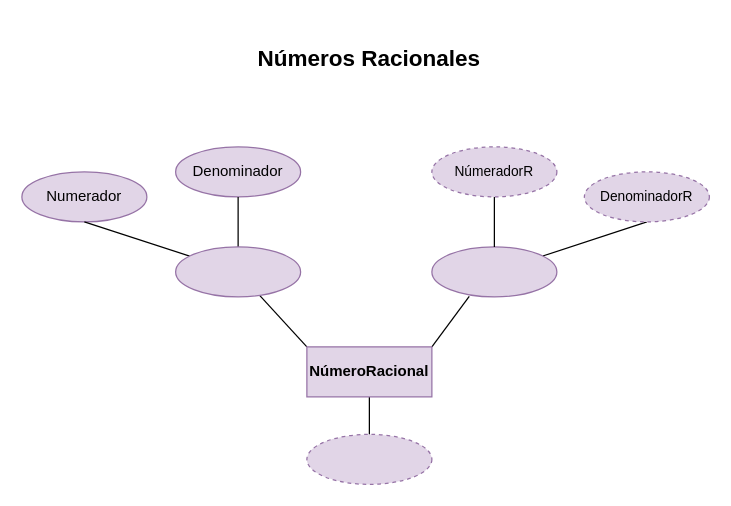
Some shapes in this 731 by 506 pixel diagram are drawn without their labels. The centre of each missing label's shape, as x and y in pixels:
"Componentes" belongs at [237,271].
"FactorReducción" belongs at [369,458].
"RacionalReducido" belongs at [494,271].
